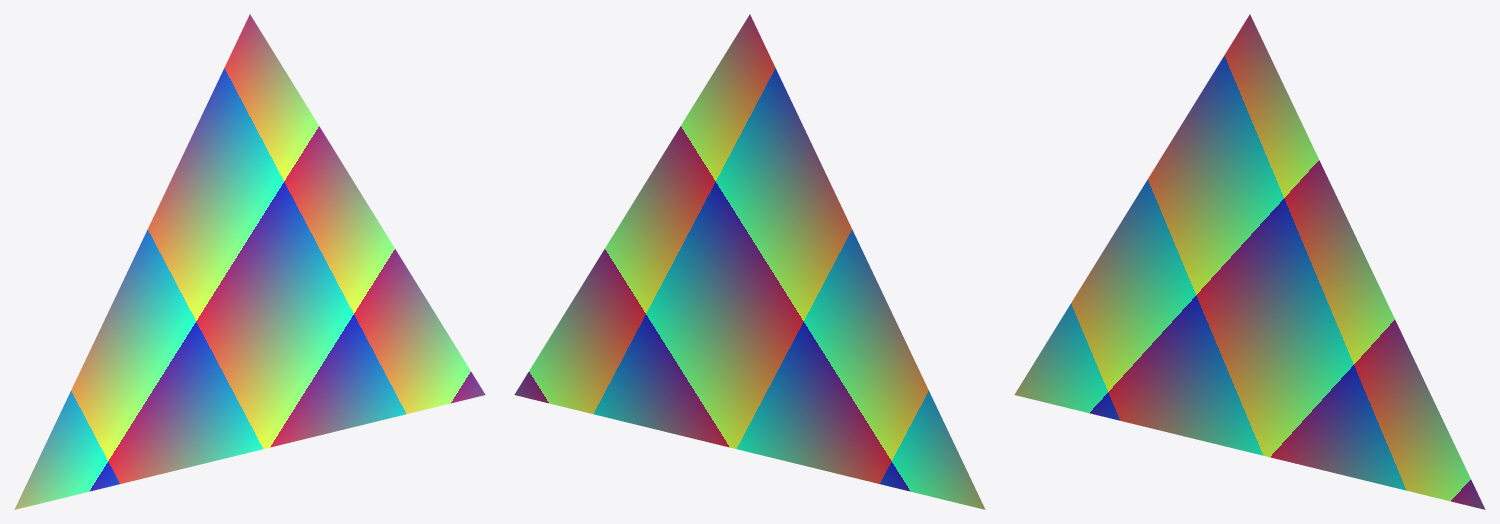
File: texture-transform.glb
3 views of the same model, side by side, from view 1: azimuth 30°, elevation 25°; view 2: azimuth 150°, elevation 25°; view 3: azimuth 330°, elevation 25° (orthographic).
Size of the model in its own units: 1.8 by 1.6 by 0.
1 material, 1 textured.
